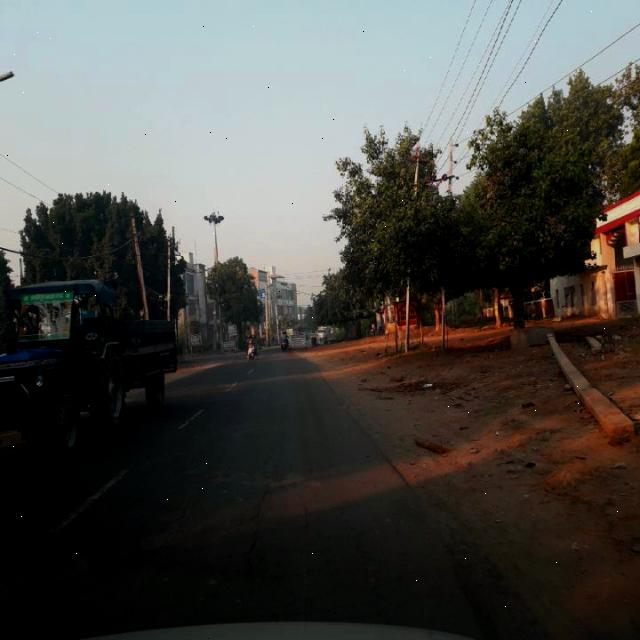D20: (37, 466, 425, 626)
